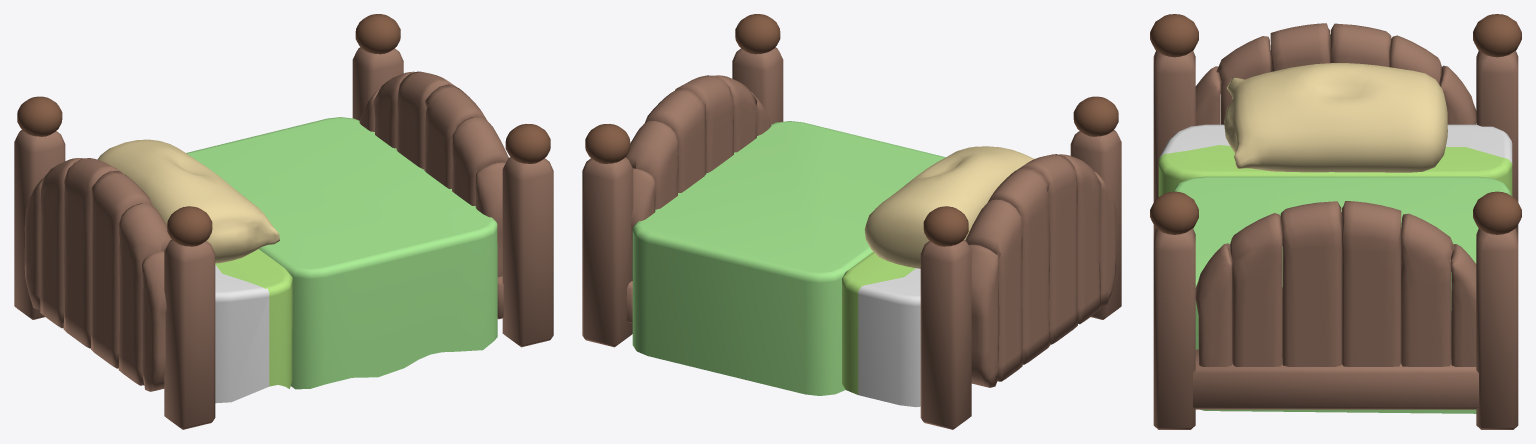
Rendered from Farmhouse_ROOM_bed_v01.glb.
3 renders of one model, left to right at view 1: azimuth 30°, elevation 25°; view 2: azimuth 150°, elevation 25°; view 3: azimuth 270°, elevation 25°, orthographic. The views are drawn at different scales.
Visible parts, largest first — view 1: Farmhouse_ROOM_bed_v01; view 2: Farmhouse_ROOM_bed_v01; view 3: Farmhouse_ROOM_bed_v01.
Boxes of the visible parts, left/top/right/bottom form: Farmhouse_ROOM_bed_v01: left=14, top=14, right=553, bottom=429; Farmhouse_ROOM_bed_v01: left=582, top=14, right=1121, bottom=429; Farmhouse_ROOM_bed_v01: left=1150, top=14, right=1521, bottom=429.
Size of the model in its own units: 2.03 by 1.08 by 1.58.
